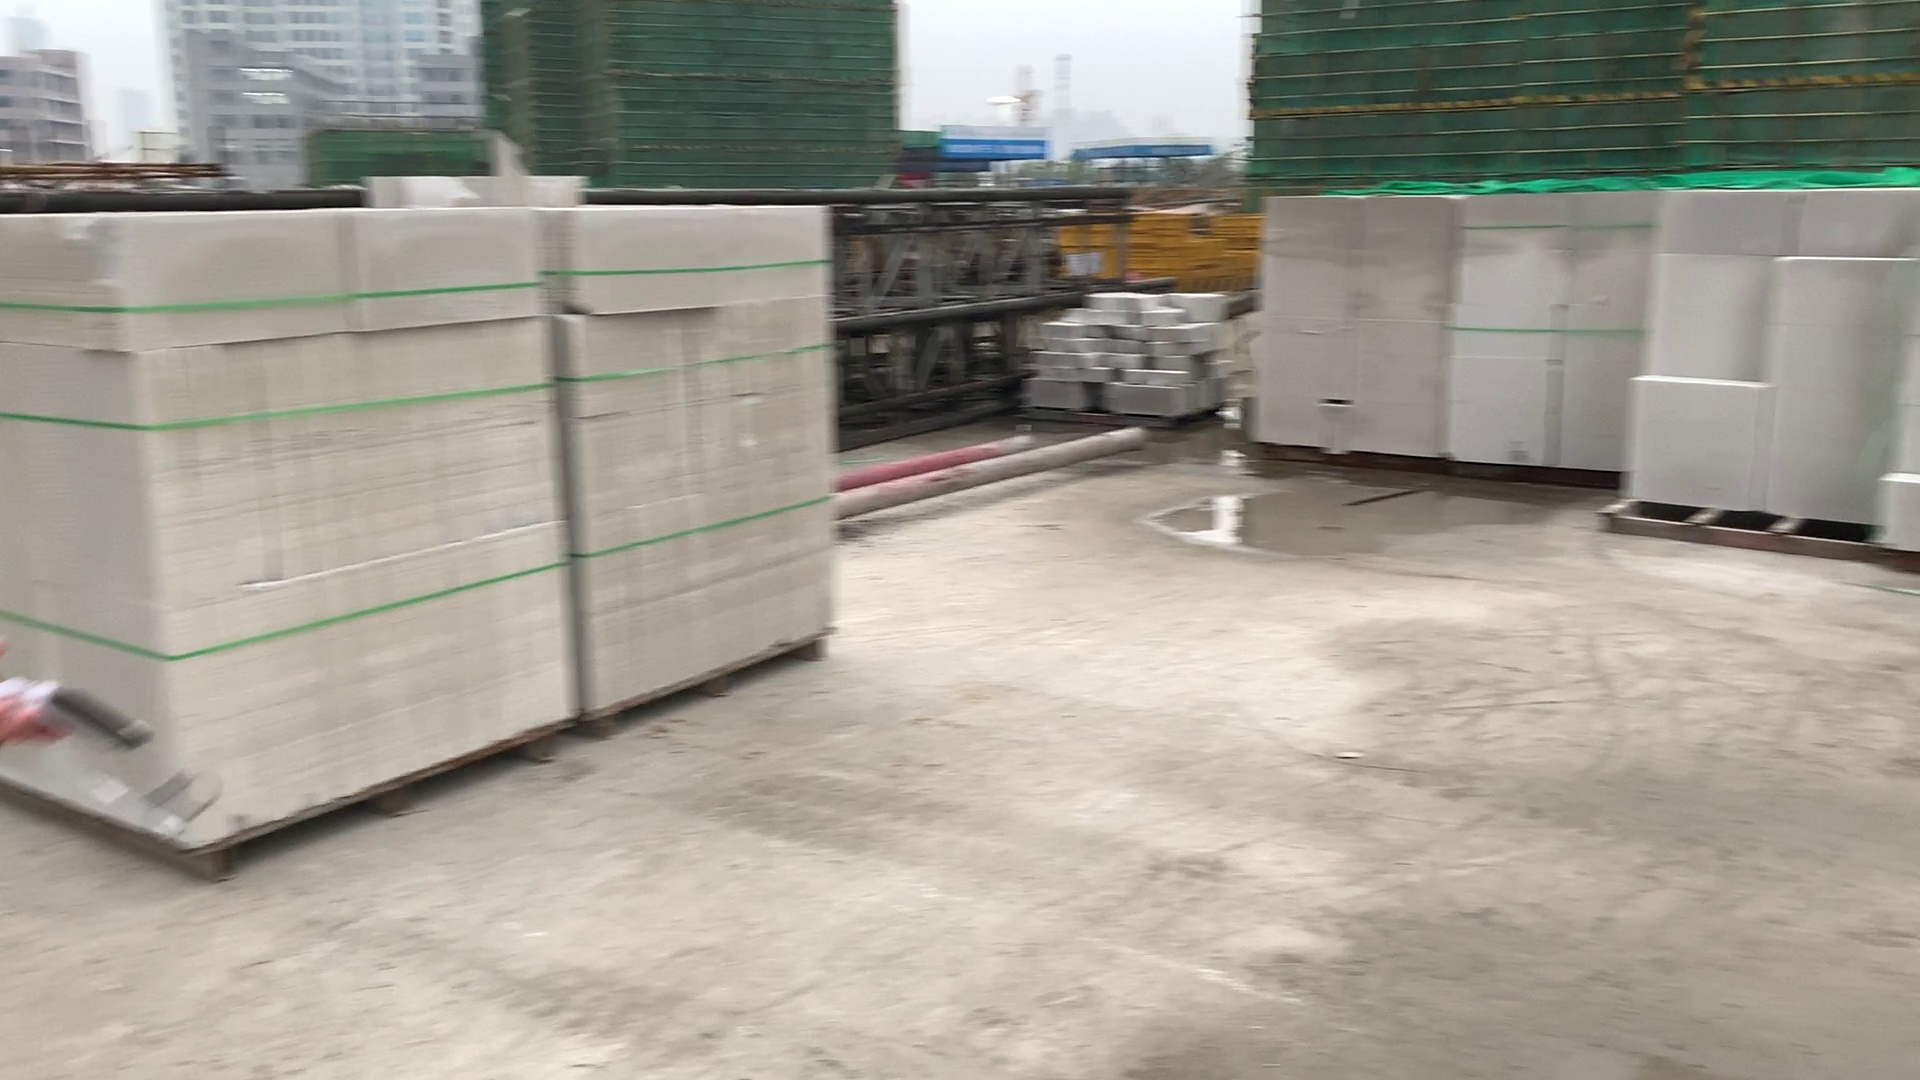brickwork: (94, 199, 574, 812), (560, 203, 855, 676), (1647, 187, 1920, 546), (1447, 193, 1633, 484), (1250, 189, 1441, 468)
